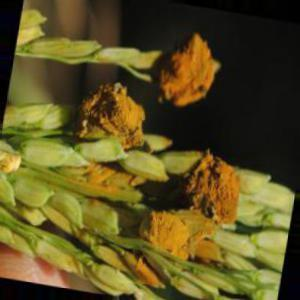Leaf_Scald: (158, 42, 222, 105), (89, 79, 145, 147), (193, 150, 243, 219), (147, 209, 220, 256), (133, 259, 169, 290)
